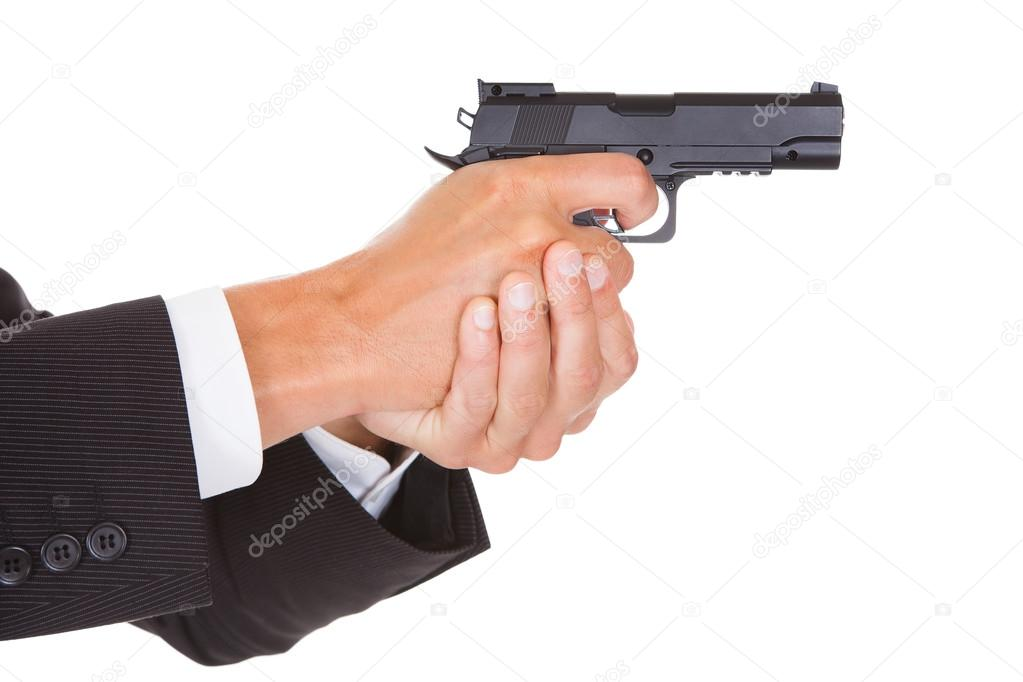pistol: (303, 12, 910, 458)
